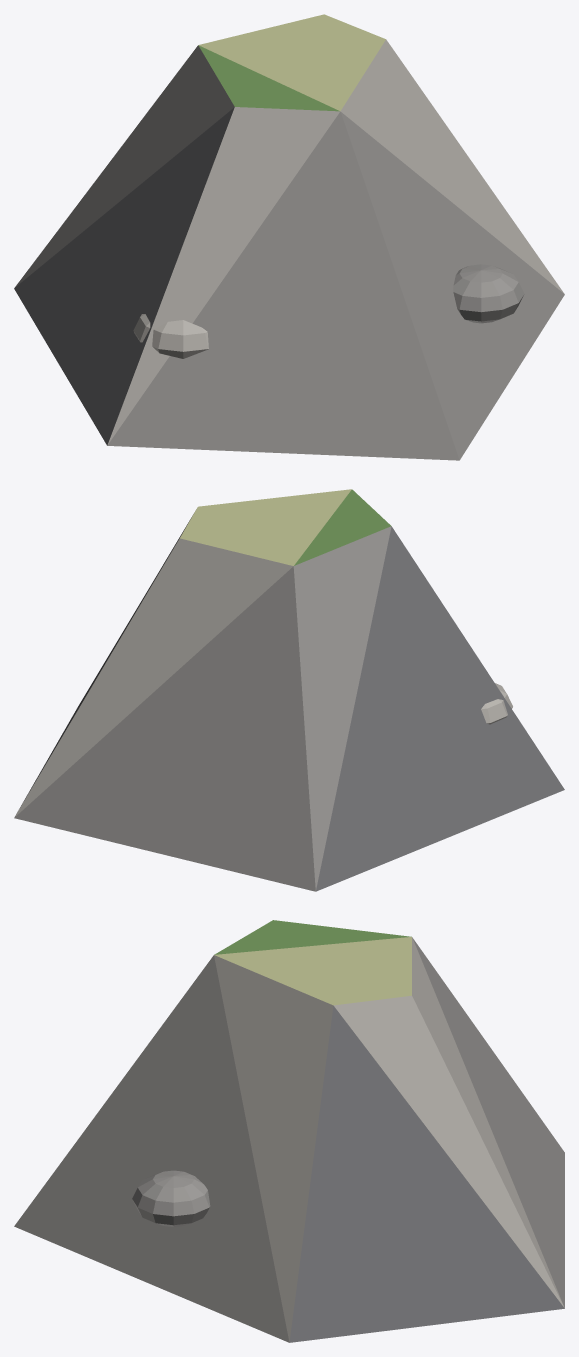
File: rock_smallA.glb
3 renders of one model, top to bottom at view 1: azimuth 30°, elevation 25°; view 2: azimuth 150°, elevation 25°; view 3: azimuth 270°, elevation 25°, orthographic. The views are drawn at different scales.
Visible parts, largest first — view 1: rock_smallA; view 2: rock_smallA; view 3: rock_smallA.
Boxes of the visible parts, left/top/right/bottom form: rock_smallA: left=14, top=14, right=564, bottom=460; rock_smallA: left=14, top=489, right=564, bottom=891; rock_smallA: left=14, top=920, right=564, bottom=1342.
Size of the model in its own units: 0.3608 by 0.1912 by 0.3608.
